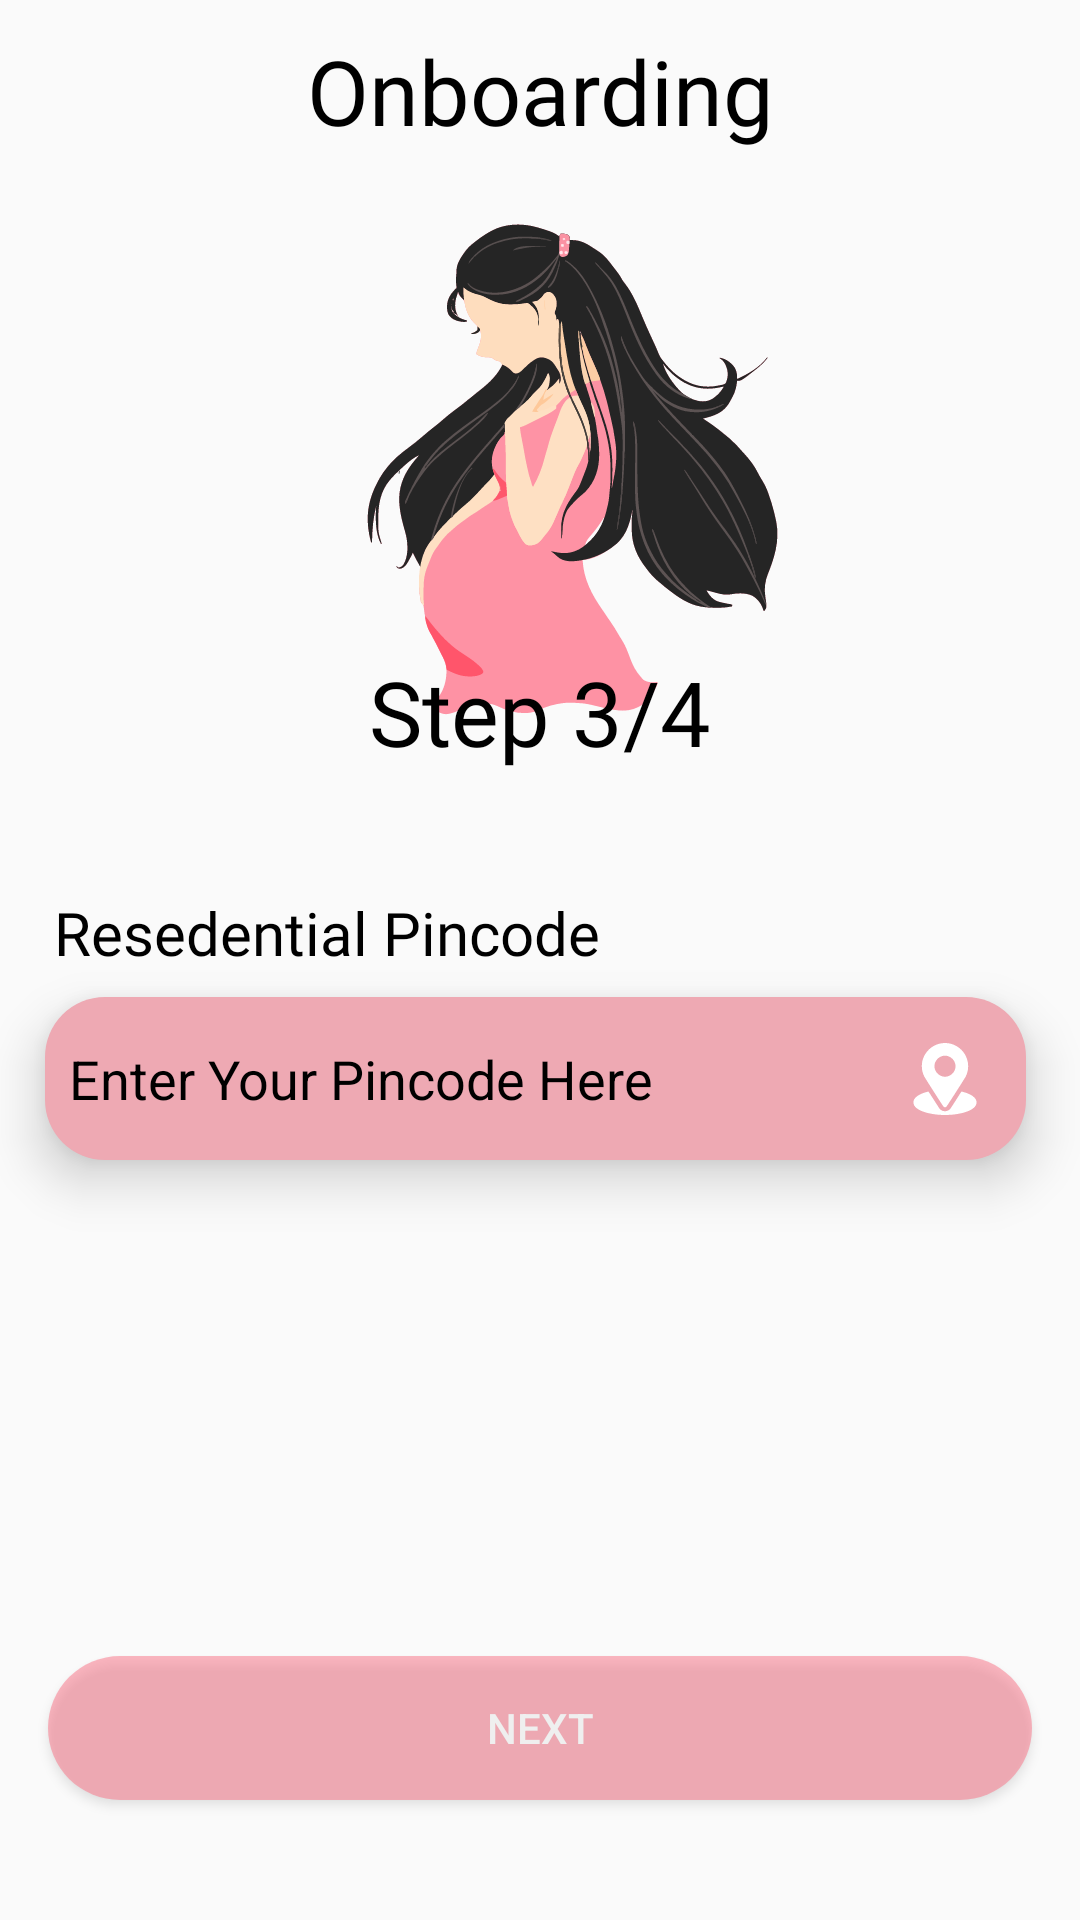

Screen size 1080x1920. Icon name, then its center in pixels as point (x, y):
location: point (945, 1079)
